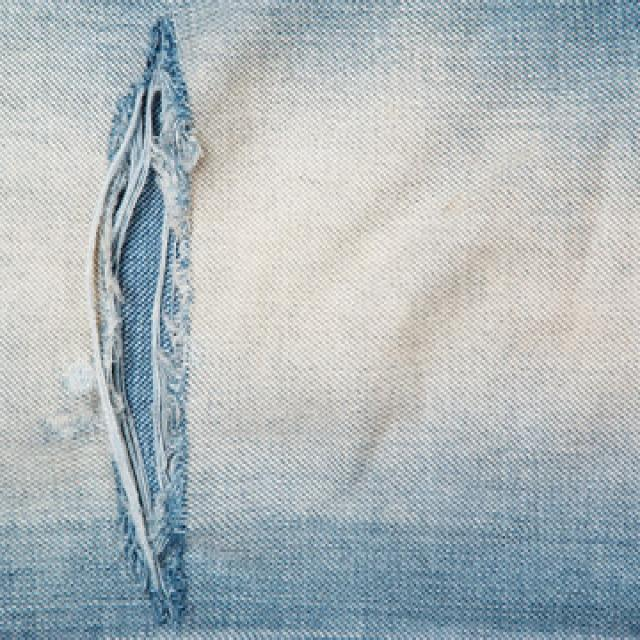Hole: (92, 17, 200, 624)
